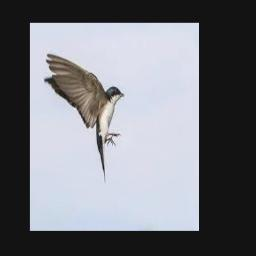Swallow: (44, 54, 124, 183)
